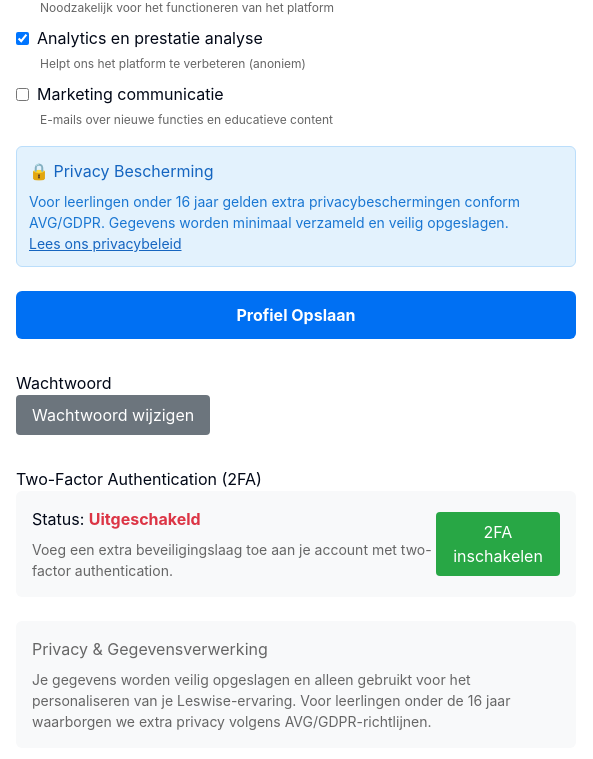
it: UserProfile › valideert wachtwoord bevestiging
The width and height of the screenshot is (593, 759).
(page scrolled)
Click the button "Wachtwoord wijzigen": (113, 415) [16,395,210,435]
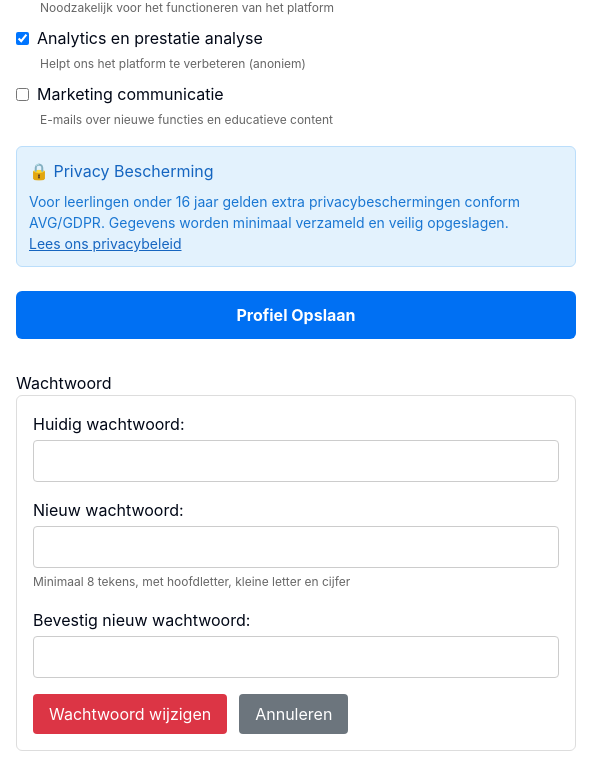
In the password field labelled "Huidig wachtwoord:": (296, 461) [33,440,559,482], type "current123"
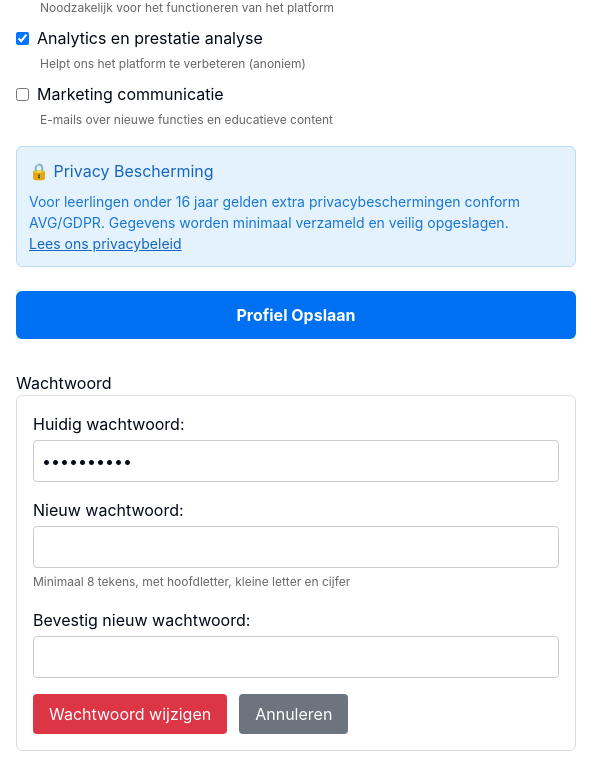
In the password field labelled "Nieuw wachtwoord:": (296, 547) [33,526,559,568], type "NewPass123!"
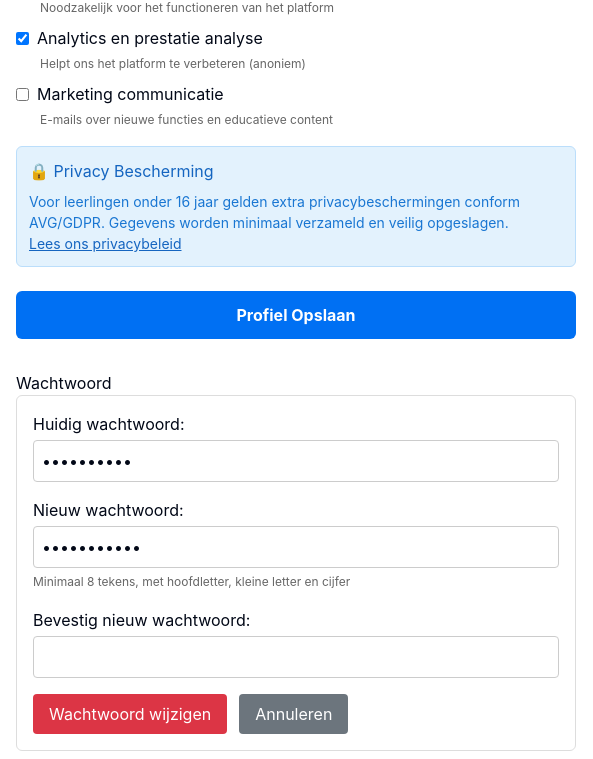
In the password field labelled "Bevestig nieuw wachtwoord:": (296, 657) [33,636,559,678], type "DifferentPass123!"
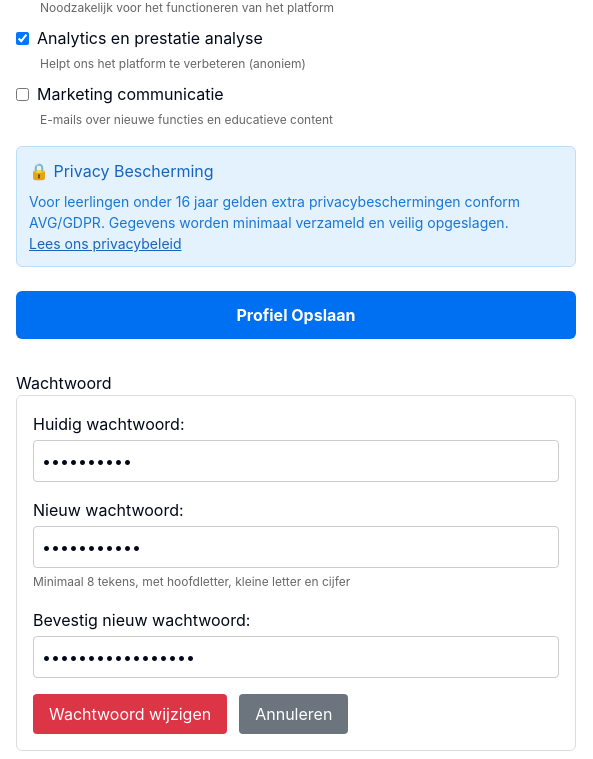
Click the button "Wachtwoord wijzigen": (130, 714) [33,694,227,734]
(page scrolled)
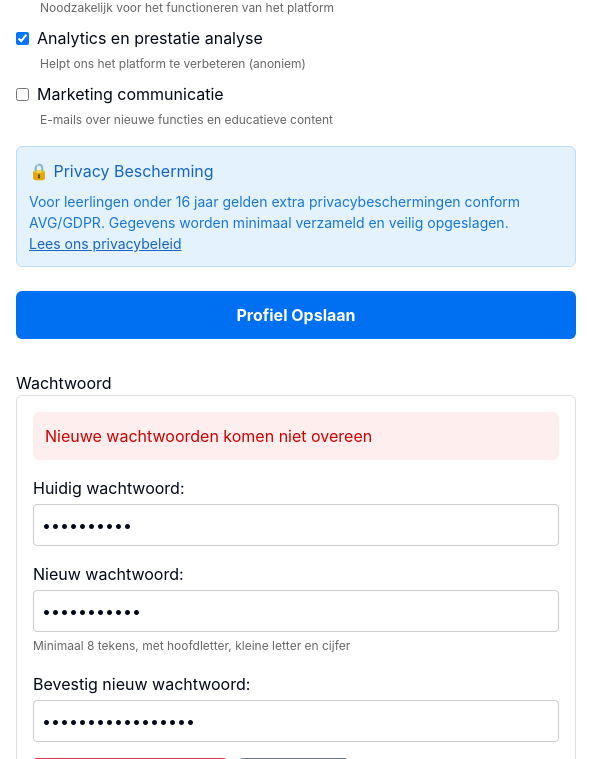
Check: the text "Nieuwe wachtwoorden komen niet overeen" is shown, box [33,412,559,460]
